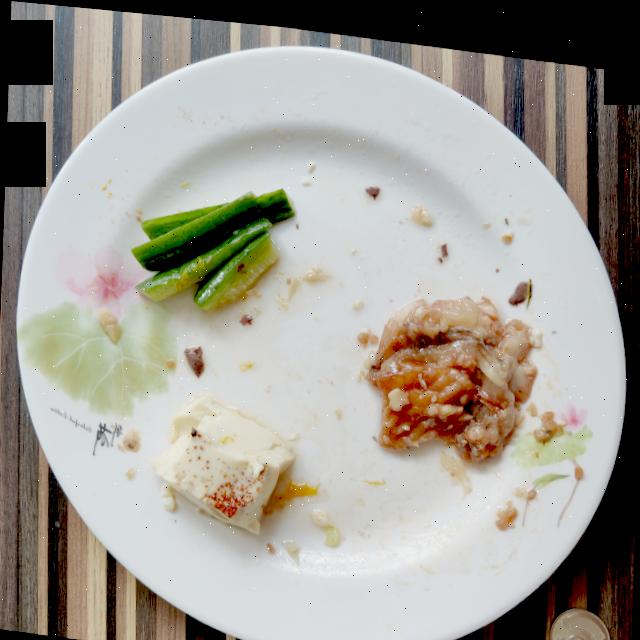Kabayaki sea bream fillet: (365, 286, 539, 454)
coin: (550, 595, 610, 640)
cucumber: (131, 182, 295, 306)
